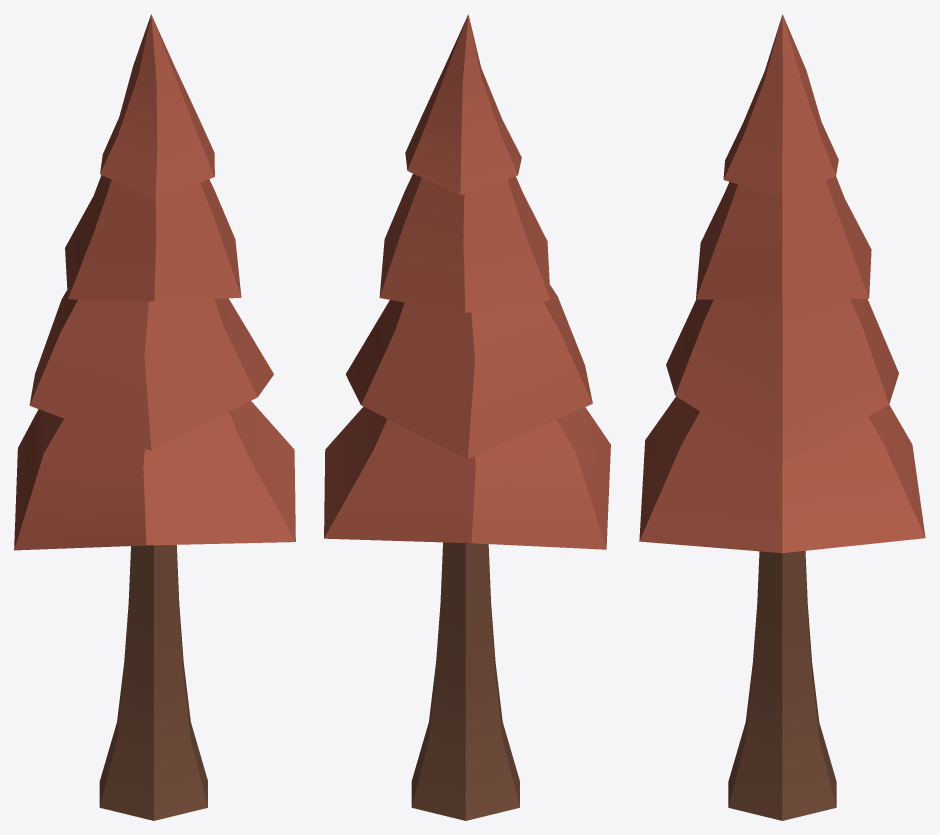
The model's file is Pine_Tree_Red.fbx.
3 views of the same model, side by side, from view 1: azimuth 30°, elevation 25°; view 2: azimuth 150°, elevation 25°; view 3: azimuth 270°, elevation 25° (orthographic).
Visible parts, largest first — view 1: Pine_Tree_Red_Geo; view 2: Pine_Tree_Red_Geo; view 3: Pine_Tree_Red_Geo.
Boxes of the visible parts, x1=… form: Pine_Tree_Red_Geo: x1=14, y1=14, x2=295, y2=820; Pine_Tree_Red_Geo: x1=324, y1=14, x2=610, y2=820; Pine_Tree_Red_Geo: x1=639, y1=14, x2=925, y2=820.
Size of the model in its own units: 113 by 300 by 99.71.
